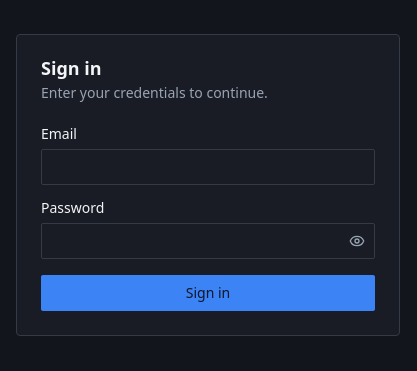
LoginPage › validates required fields on submit
Click the button "Sign in" at (208, 293), box [41,275,375,311]
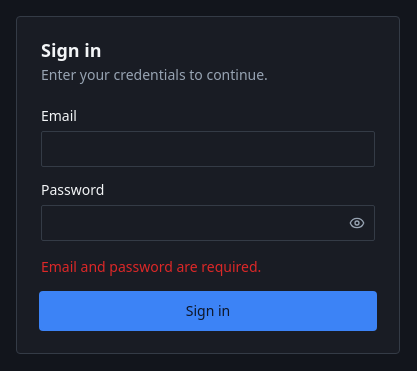
Expected: the text "Email and password are required." is shown, [41,257,261,276]
